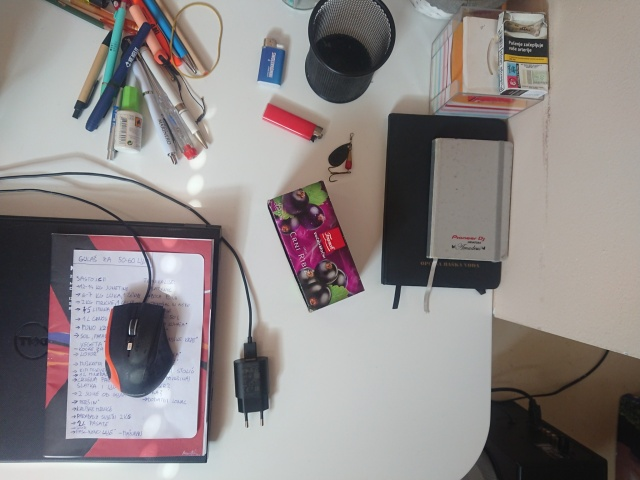Franck Black Currant Tea 60g: (265, 178, 367, 314)
